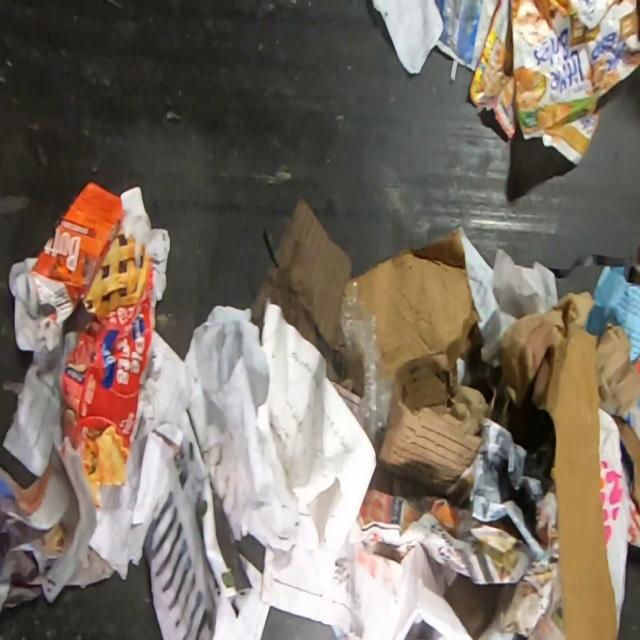cardboard: (60, 185, 171, 511), (468, 0, 640, 166), (538, 321, 617, 640), (351, 226, 482, 413), (250, 196, 361, 398), (377, 378, 491, 495), (612, 415, 640, 510)
soft_plastic: (339, 282, 395, 452), (598, 407, 636, 640)
